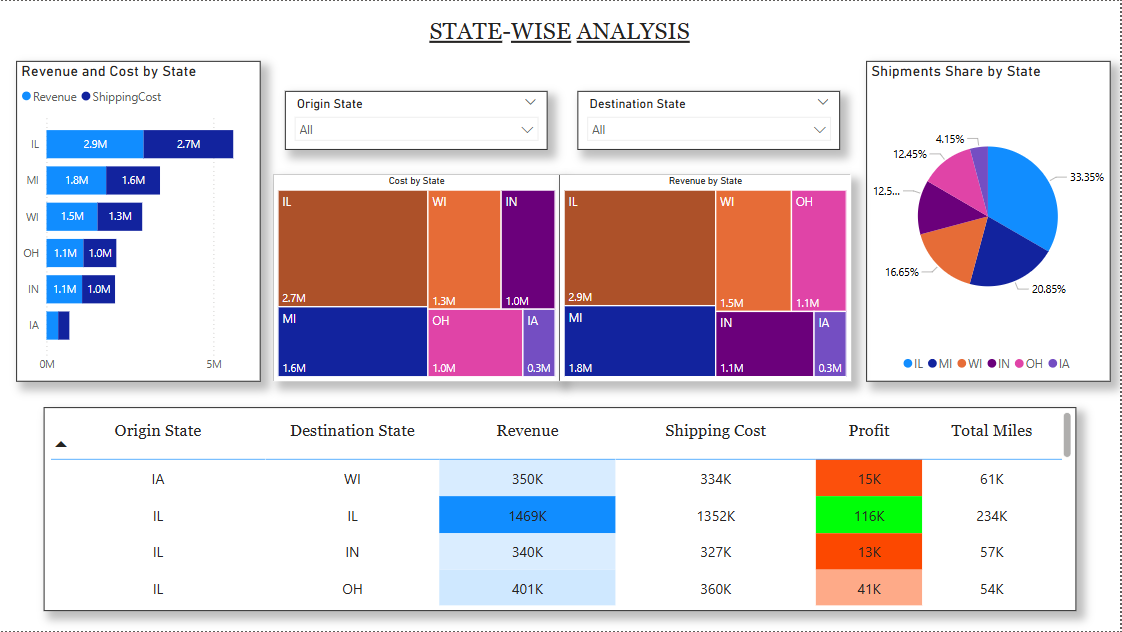

This screenshot's page, from the dashboard's own definition file:
{"tool":"powerbi","page":{"name":"State-Wise Analysis","canvas":[1280,720],"ordinal":1},"visuals":[{"type":"treemap","title":"Cost by State","fields":{"Group":["Sheet1.OriginState"],"Values":["Sum(Sheet1.ShippingCost)"]},"box":[312.8,198.8,326.7,236],"z":0,"group":"g1"},{"type":"barChart","title":"Revenue and Cost by State","fields":{"Category":["Sheet1.OriginState"],"Y":["Sum(Sheet1.Revenue)","Sum(Sheet1.ShippingCost)"]},"box":[18.6,68.6,279.1,366.3],"z":0},{"type":"treemap","title":"Revenue by State","fields":{"Group":["Sheet1.OriginState"],"Values":["Sum(Sheet1.Revenue)"]},"box":[639.5,198.8,332.6,236],"z":1000,"group":"g1"},{"type":"pieChart","title":"Shipments Share by State","fields":{"Category":["Sheet1.OriginState"],"Y":["CountNonNull(Sheet1.Customer)"]},"box":[990.7,68.6,279.1,366.3],"z":1000},{"type":"textbox","box":[468.6,14,341.9,44.2],"z":2000},{"type":"tableEx","fields":{"Values":["Sheet1.OriginState","Sheet1.DestinationState","Sum(Sheet1.Revenue)","Sum(Sheet1.ShippingCost)","Sum(Sheet1.Profit)","Sum(Sheet1.TotalMiles)"]},"box":[50,464,1180.2,232.6],"z":3000},{"type":"slicer","fields":{"Values":["Sheet1.OriginState"]},"box":[325.6,102.3,300,67.4],"z":4000},{"type":"slicer","fields":{"Values":["Sheet1.DestinationState"]},"box":[660.5,102.3,300,67.4],"z":5000},{"type":"group","id":"g1","title":"Group 1","box":[312.8,198.8,659.3,236],"z":6000}]}

Visuals, with their boxes in screenshot pixels (x1, y1, x2, y2), scaled from the page's 1280x720 canvas onto the 1122x632 screenshot:
"Cost by State" treemap: 274:175:561:382
"Revenue and Cost by State" barChart: 16:60:261:382
"Revenue by State" treemap: 561:175:852:382
"Shipments Share by State" pieChart: 868:60:1113:382
textbox: 411:12:710:51
tableEx - Sheet1.OriginState x Sheet1.DestinationState: 44:407:1078:611
slicer - Sheet1.OriginState: 285:90:548:149
slicer - Sheet1.DestinationState: 579:90:842:149
"Group 1" group: 274:175:852:382
